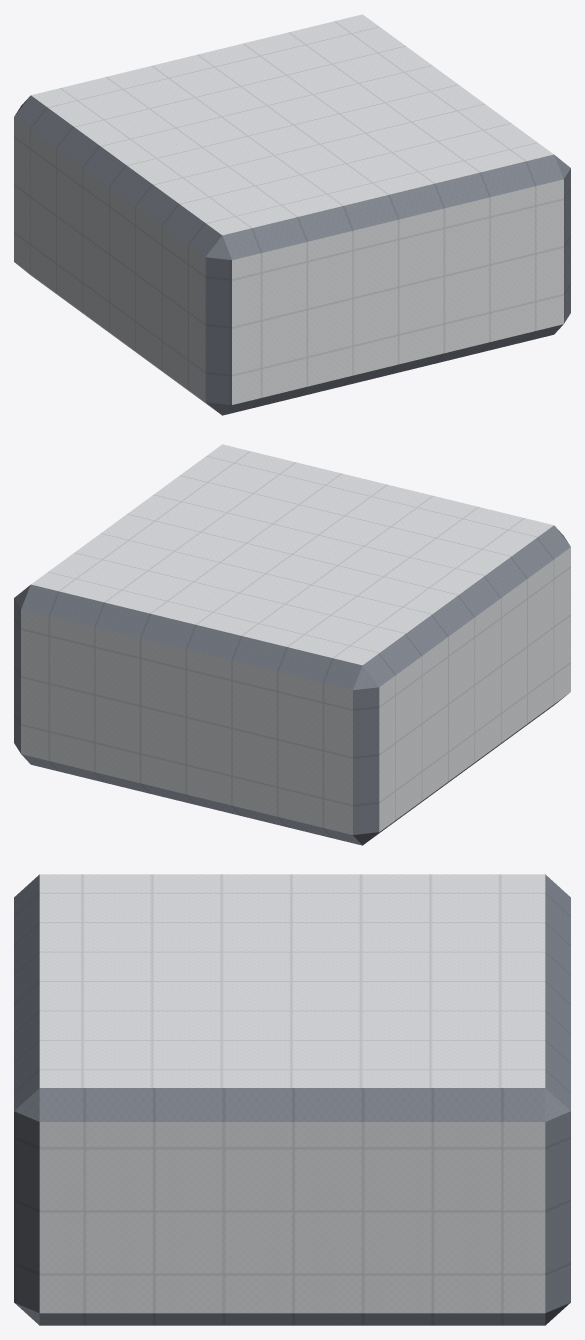
The model's file is R4B_HalfBlock_LOD1.glb.
3 renders of one model, top to bottom at view 1: azimuth 30°, elevation 25°; view 2: azimuth 150°, elevation 25°; view 3: azimuth 270°, elevation 25°, orthographic. The views are drawn at different scales.
Visible parts, largest first — view 1: R4B_HalfBlock_LOD1; view 2: R4B_HalfBlock_LOD1; view 3: R4B_HalfBlock_LOD1.
Part boxes in pixels (left/top/right/bottom): R4B_HalfBlock_LOD1: left=14, top=14, right=570, bottom=415; R4B_HalfBlock_LOD1: left=14, top=444, right=570, bottom=845; R4B_HalfBlock_LOD1: left=14, top=874, right=570, bottom=1325.
Size of the model in its own units: 0.52 by 0.245 by 0.52.
2 materials, 2 textured.
